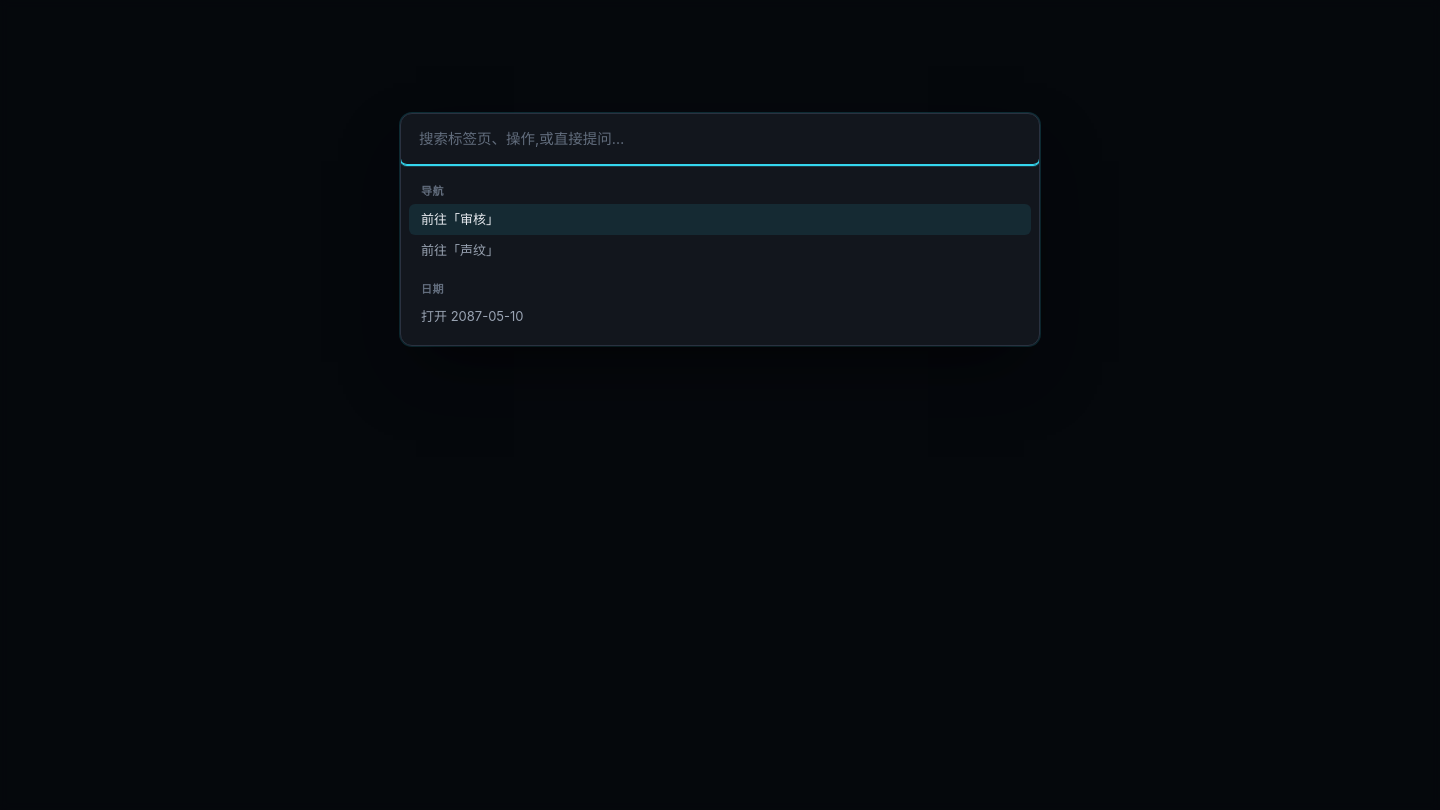
CommandPalette › filters the list as you type (case-insensitive substring/fuzzy)
The width and height of the screenshot is (1440, 810).
Type "声纹" into the field at (720, 140), box [401, 114, 1039, 165]
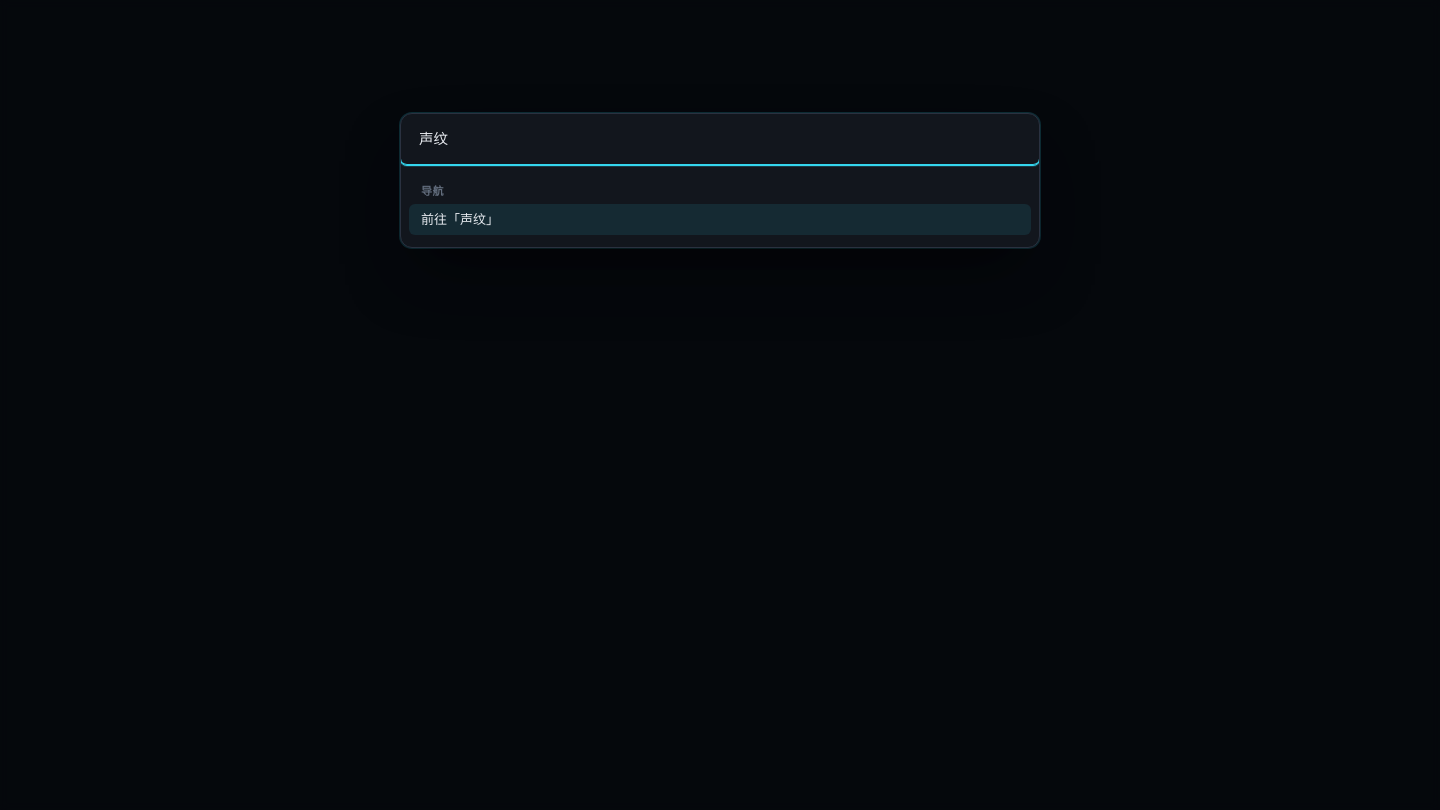
Expected: the text "前往「声纹」" is shown, [421, 211, 499, 227]
Now the option "前往「审核」" is gone
Now the option "打开 2087-05-10" is gone
